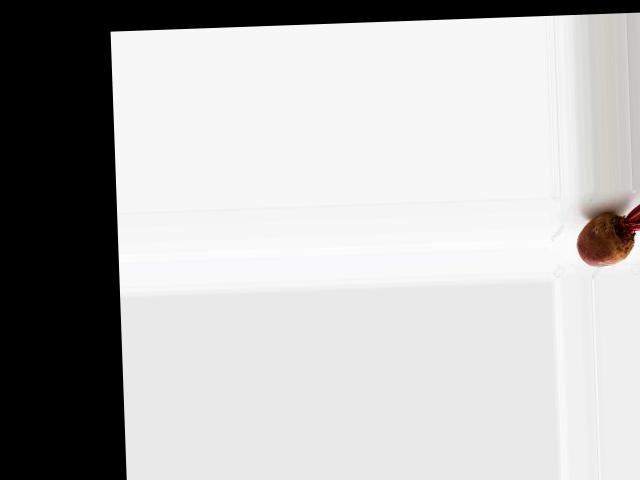beet: (574, 199, 640, 267)
